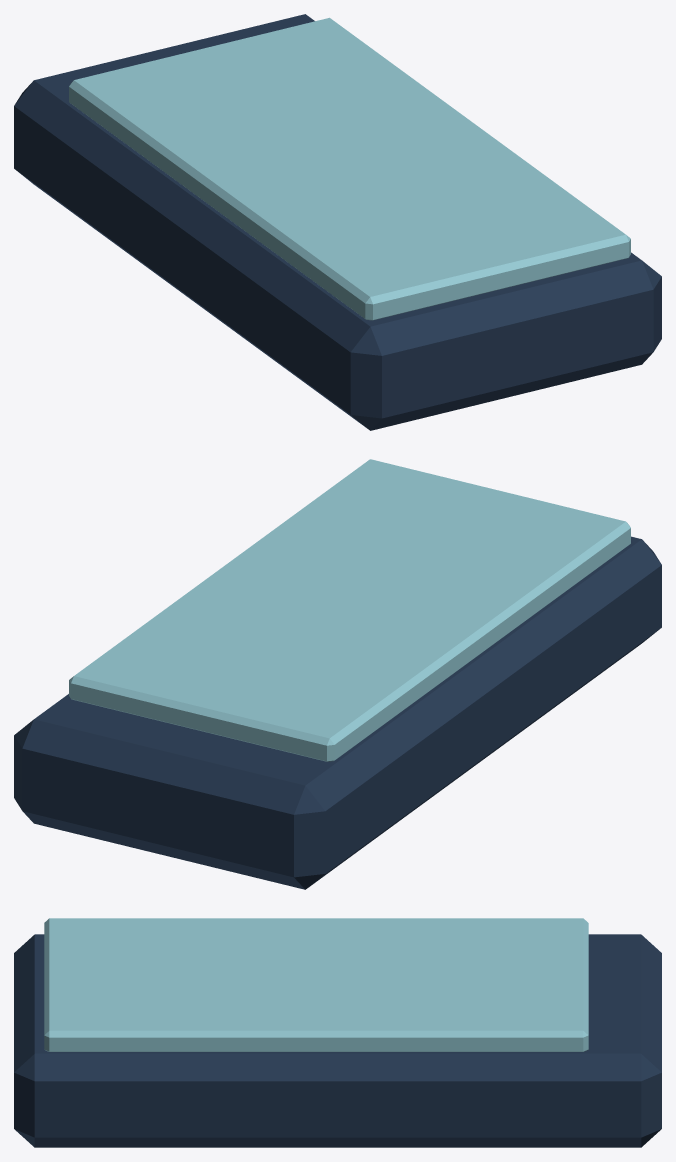
Rendered from Prop_Phone.fbx.
3 views of the same model, one above another, from view 1: azimuth 30°, elevation 25°; view 2: azimuth 150°, elevation 25°; view 3: azimuth 270°, elevation 25° (orthographic). The views are drawn at different scales.
Parts seen in each view (by area): view 1: Screen.002, Phone; view 2: Screen.002, Phone; view 3: Phone, Screen.002.
Boxes of the visible parts, bbox=[...] form: Screen.002: bbox=[69, 17, 630, 320]; Phone: bbox=[14, 14, 661, 430]; Screen.002: bbox=[69, 459, 630, 761]; Phone: bbox=[14, 536, 661, 889]; Phone: bbox=[14, 934, 661, 1147]; Screen.002: bbox=[44, 918, 588, 1051].
Size of the model in its own units: 0.075 by 0.029 by 0.15.
